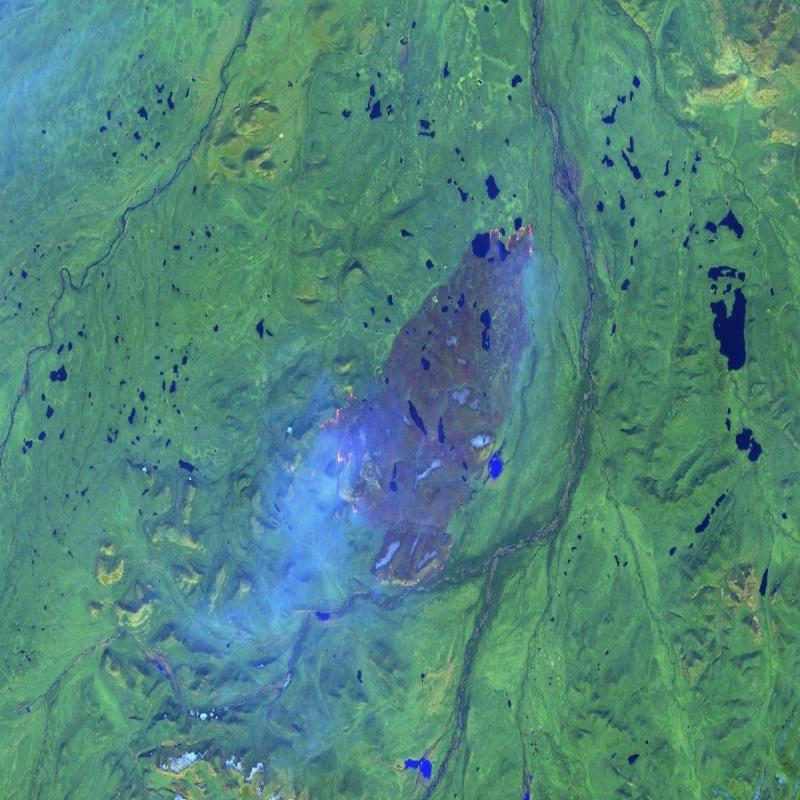fire: (320, 381, 366, 522), (486, 210, 539, 270)
